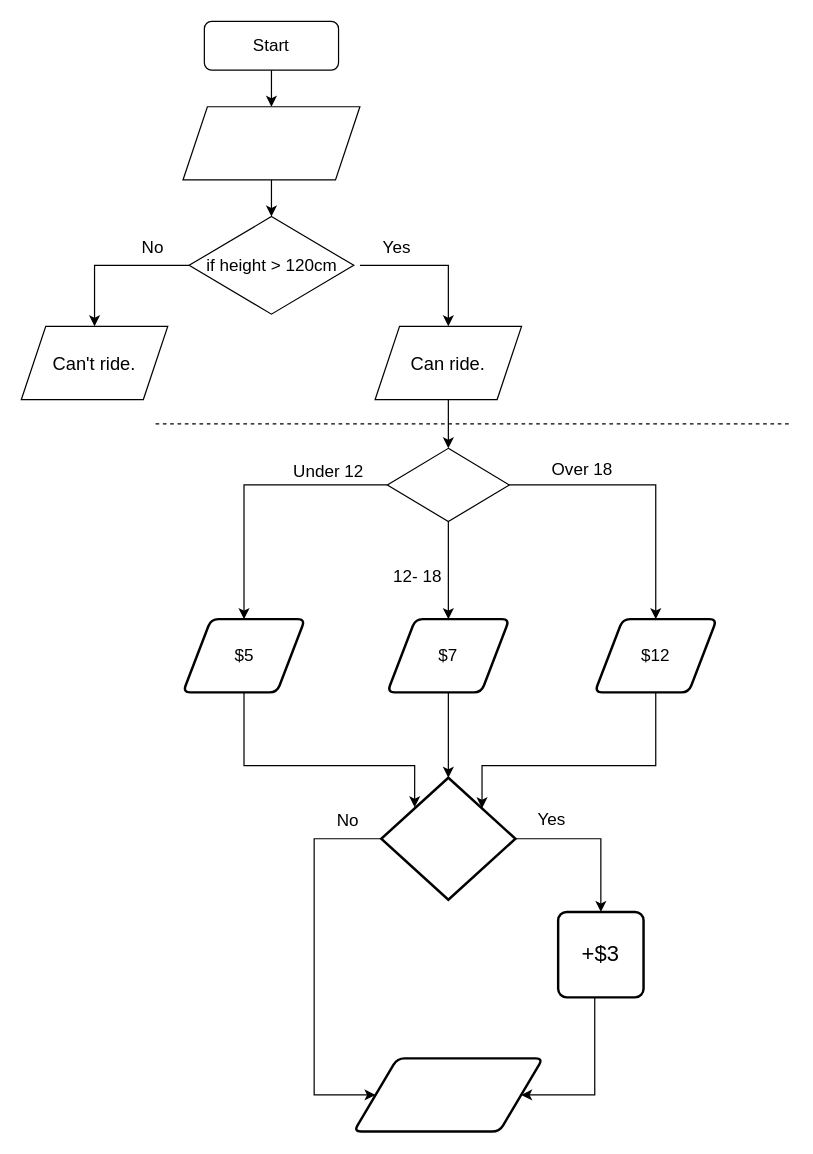
Image size: 813x1154. Some labels were removed from this diagram. Each missing label, with the box of its shape:
age: (386, 447, 509, 522)
Input height, age: (182, 106, 360, 180)
Total bill is $x: (352, 1057, 544, 1132)
want photos?: (379, 776, 516, 900)
